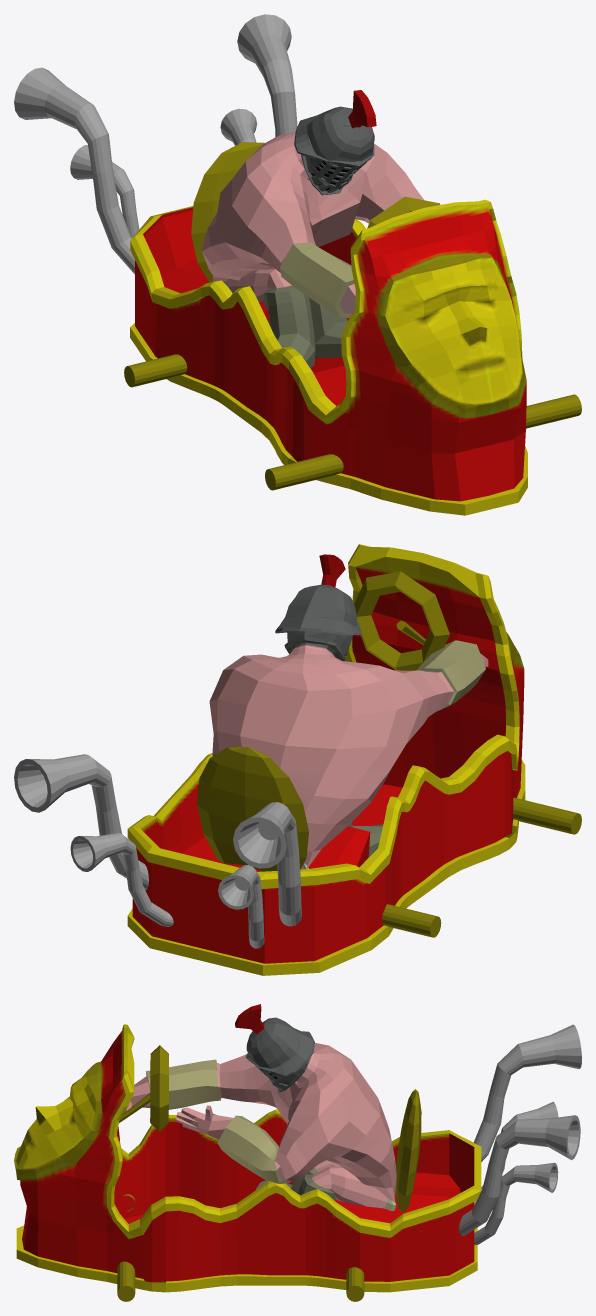
Rendered from GladiLanzamiento_000525.obj.
3 renders of one model, top to bottom at view 1: azimuth 30°, elevation 25°; view 2: azimuth 150°, elevation 25°; view 3: azimuth 270°, elevation 25°, orthographic. The views are drawn at different scales.
Visible parts, largest first — view 1: GladiChasis_GladiChasisH, Gadiador_Gladiador_H.001, GladiTubos_GladiTubosH, GladiVolante_GladiVolanteH; view 2: GladiChasis_GladiChasisH, Gadiador_Gladiador_H.001, GladiVolante_GladiVolanteH, GladiTubos_GladiTubosH; view 3: GladiChasis_GladiChasisH, Gadiador_Gladiador_H.001, GladiTubos_GladiTubosH, GladiVolante_GladiVolanteH.
Boxes of the visible parts, bbox=[...] form: GladiChasis_GladiChasisH: bbox=[130, 199, 527, 515]; Gadiador_Gladiador_H.001: bbox=[202, 90, 423, 368]; GladiTubos_GladiTubosH: bbox=[14, 14, 297, 274]; GladiVolante_GladiVolanteH: bbox=[124, 142, 581, 490]; GladiChasis_GladiChasisH: bbox=[127, 544, 525, 975]; Gadiador_Gladiador_H.001: bbox=[209, 554, 488, 869]; GladiVolante_GladiVolanteH: bbox=[197, 571, 581, 937]; GladiTubos_GladiTubosH: bbox=[14, 754, 301, 948]; GladiChasis_GladiChasisH: bbox=[14, 1024, 481, 1292]; Gadiador_Gladiador_H.001: bbox=[124, 1004, 396, 1211]; GladiTubos_GladiTubosH: bbox=[459, 1024, 581, 1245]; GladiVolante_GladiVolanteH: bbox=[117, 1045, 421, 1301].
Size of the model in its own units: 5.46 by 5.21 by 10.78.
